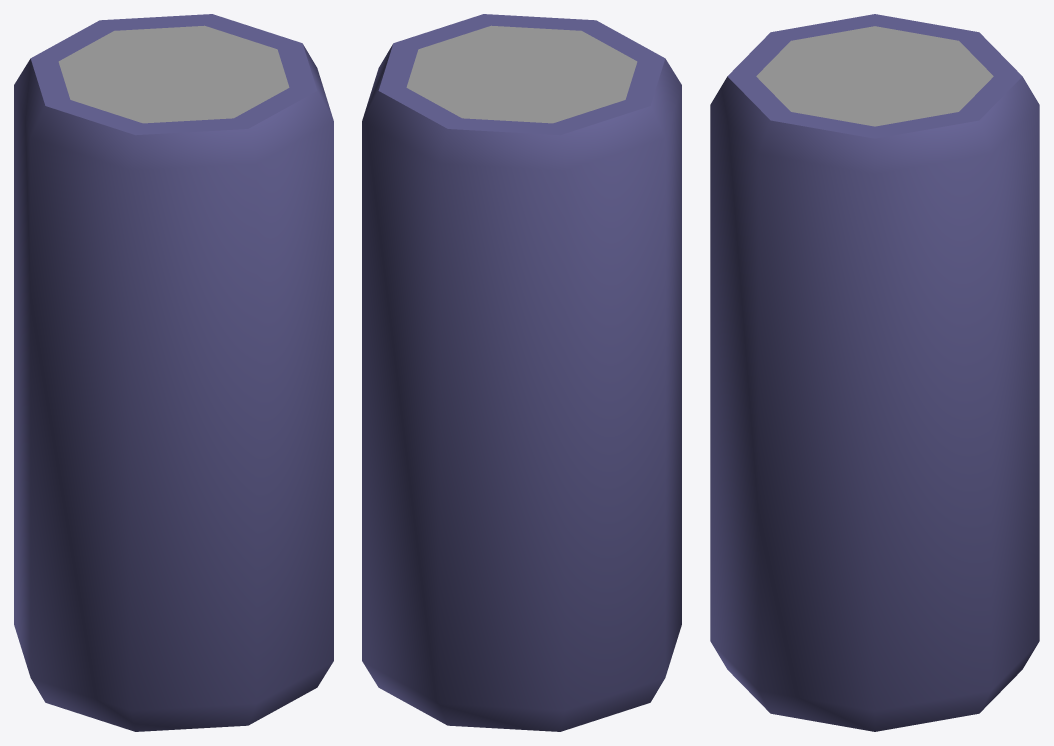
File: SM_Props_Garbage_06.fbx
3 renders of one model, left to right at view 1: azimuth 30°, elevation 25°; view 2: azimuth 150°, elevation 25°; view 3: azimuth 270°, elevation 25°, orthographic.
Visible parts, largest first — view 1: SM_Props_Garbage_06; view 2: SM_Props_Garbage_06; view 3: SM_Props_Garbage_06.
Boxes of the visible parts, <box> form: SM_Props_Garbage_06: <box>14,14,333,731</box>; SM_Props_Garbage_06: <box>362,14,681,731</box>; SM_Props_Garbage_06: <box>710,14,1039,731</box>.
Bounding box in the file's own units: 0.0809 × 0.1609 × 0.0809.
